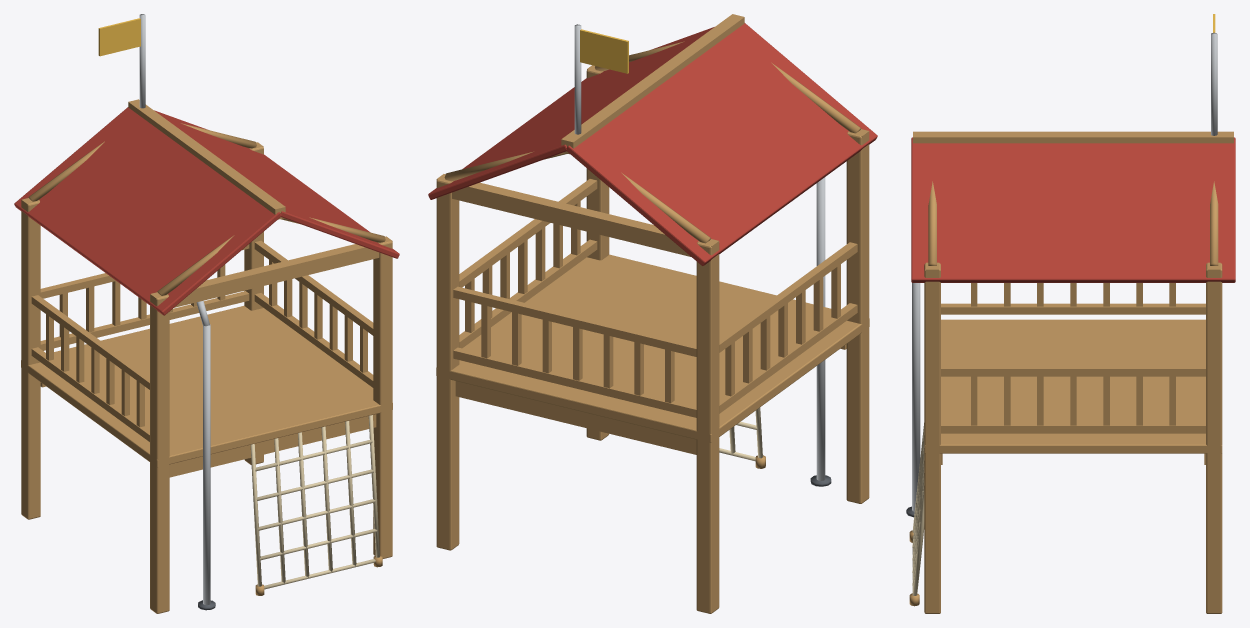
The model's file is climbingFrame.glb.
3 views of the same model, side by side, from view 1: azimuth 30°, elevation 25°; view 2: azimuth 150°, elevation 25°; view 3: azimuth 270°, elevation 25° (orthographic). The views are drawn at different scales.
Parts seen in each view (by area): view 1: climbingFrame; view 2: climbingFrame; view 3: climbingFrame.
Boxes of the visible parts, x1,y1,x2,y2 form: climbingFrame: (14, 14, 399, 613); climbingFrame: (428, 14, 877, 613); climbingFrame: (906, 14, 1235, 613).
Size of the model in its own units: 1.81 by 3.45 by 1.99.
